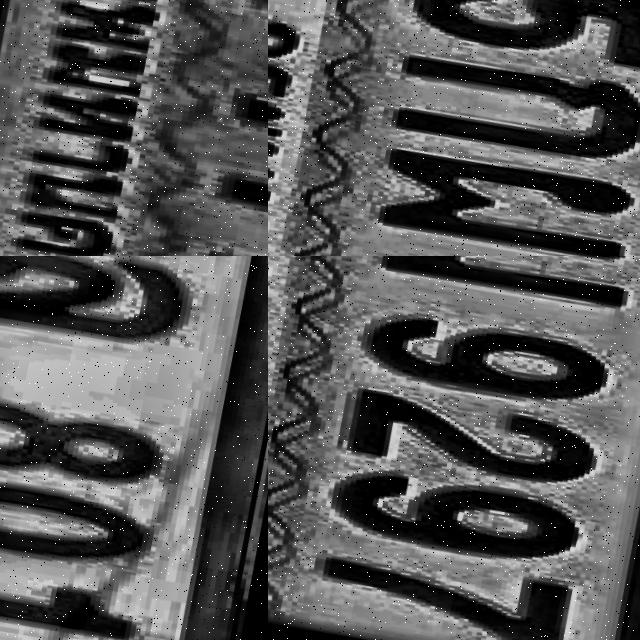license-plate: (268, 256, 640, 640), (0, 256, 268, 640), (268, 0, 640, 256), (0, 0, 268, 256)
